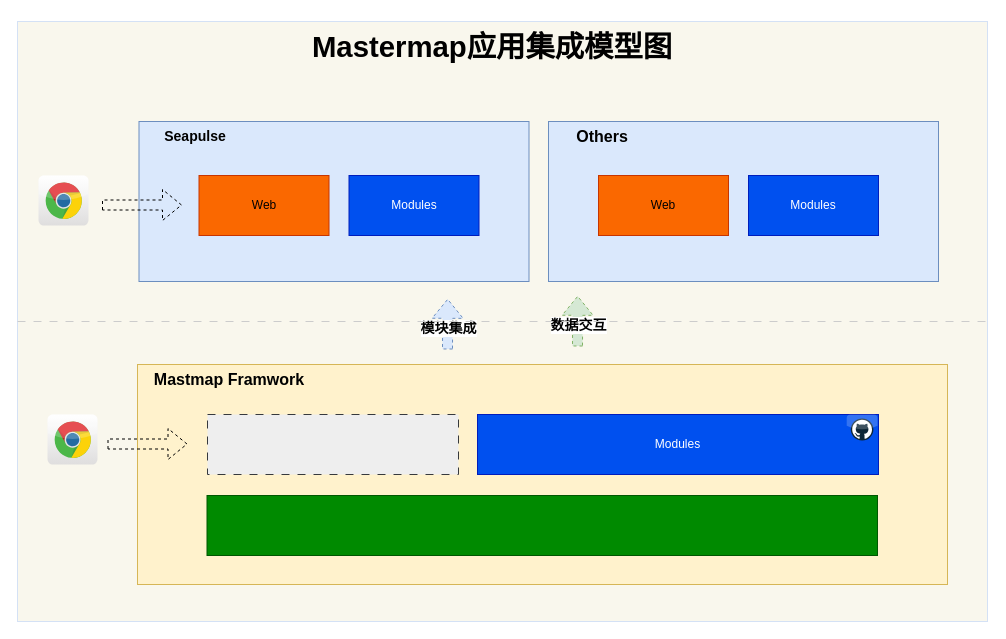
This 1006x639 diagram has some shape labels left out. The centre of each missing label's shape, as x and y in pixels:
"API ( MMAPI + OpenAPI )" goes at pixel 542 525.
"Mastmap_Web (Enter)" goes at pixel 332 444.
